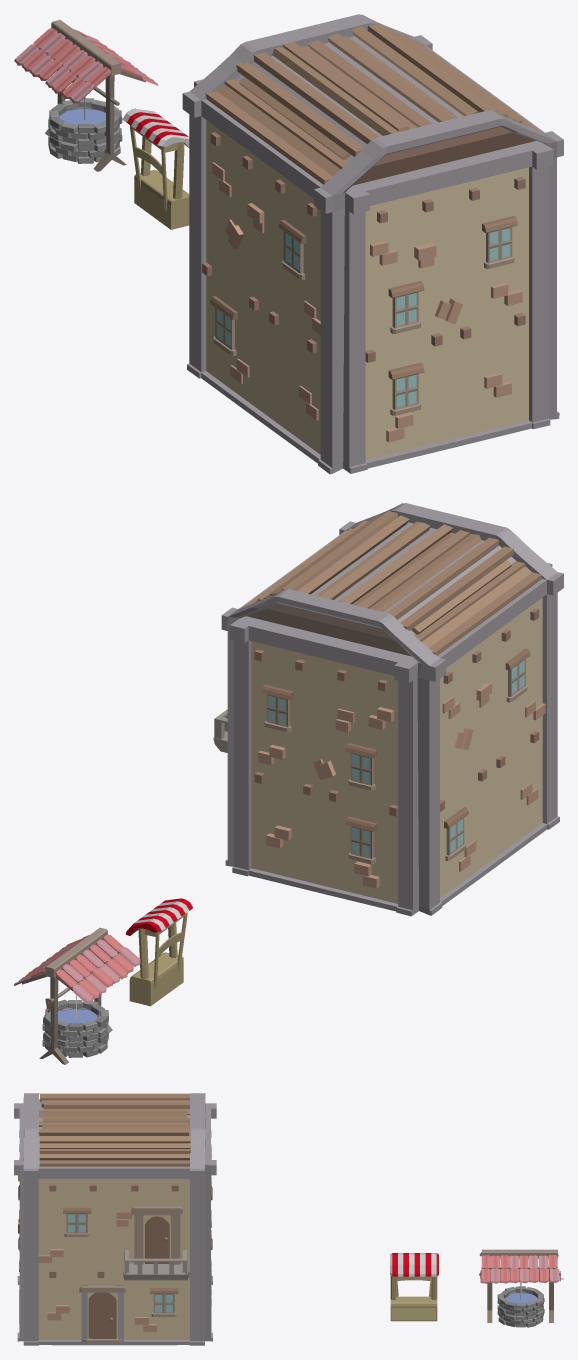
The model's file is gebouwennnn.fbx.
The picture shows the model from 3 angles, top to bottom: view 1: azimuth 30°, elevation 25°; view 2: azimuth 150°, elevation 25°; view 3: azimuth 270°, elevation 25°; orthographic projection. The views are drawn at different scales.
Visible parts, largest first — view 1: Huis01, WensPut, Kraampje; view 2: Huis01, WensPut, Kraampje; view 3: Huis01, WensPut, Kraampje.
Part boxes in pixels (bbox=[...]): Huis01: bbox=[182, 14, 563, 474]; WensPut: bbox=[14, 19, 158, 171]; Kraampje: bbox=[122, 108, 189, 229]; Huis01: bbox=[213, 503, 563, 916]; WensPut: bbox=[14, 927, 140, 1064]; Kraampje: bbox=[125, 898, 192, 1006]; Huis01: bbox=[14, 1093, 216, 1345]; WensPut: bbox=[479, 1249, 563, 1327]; Kraampje: bbox=[390, 1253, 438, 1321].
Bounding box in the file's own units: 8.27 × 9.49 × 23.75.
